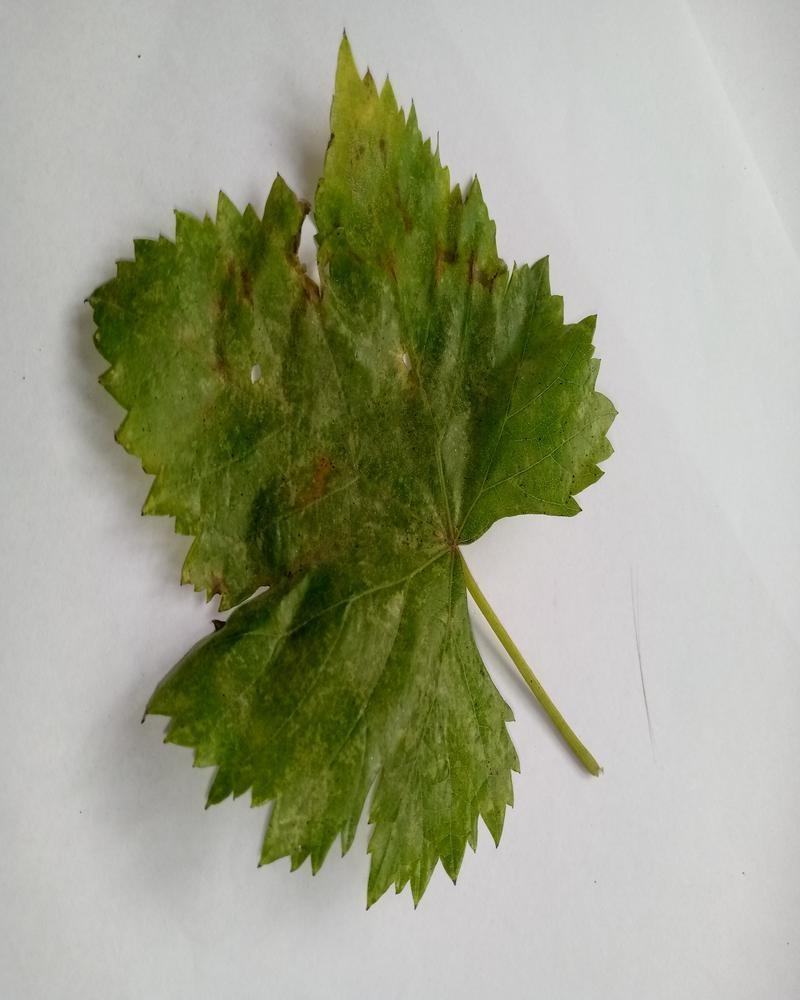Powdery-Mildew: (178, 242, 431, 420), (378, 600, 503, 825), (99, 285, 206, 521), (322, 58, 428, 214), (263, 706, 372, 847), (259, 419, 370, 526), (415, 212, 518, 321), (525, 360, 606, 486)
